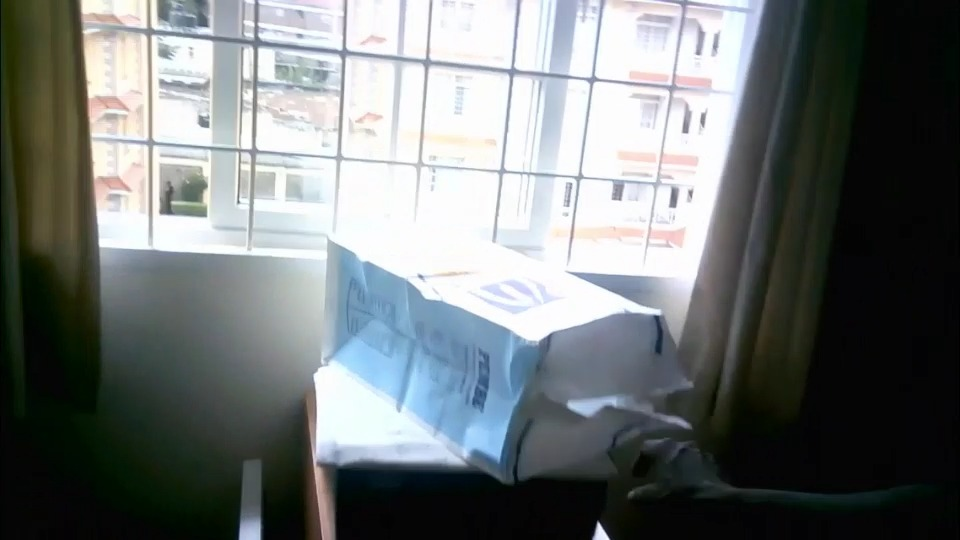wheat_flour_blue_label: (330, 218, 670, 481)
